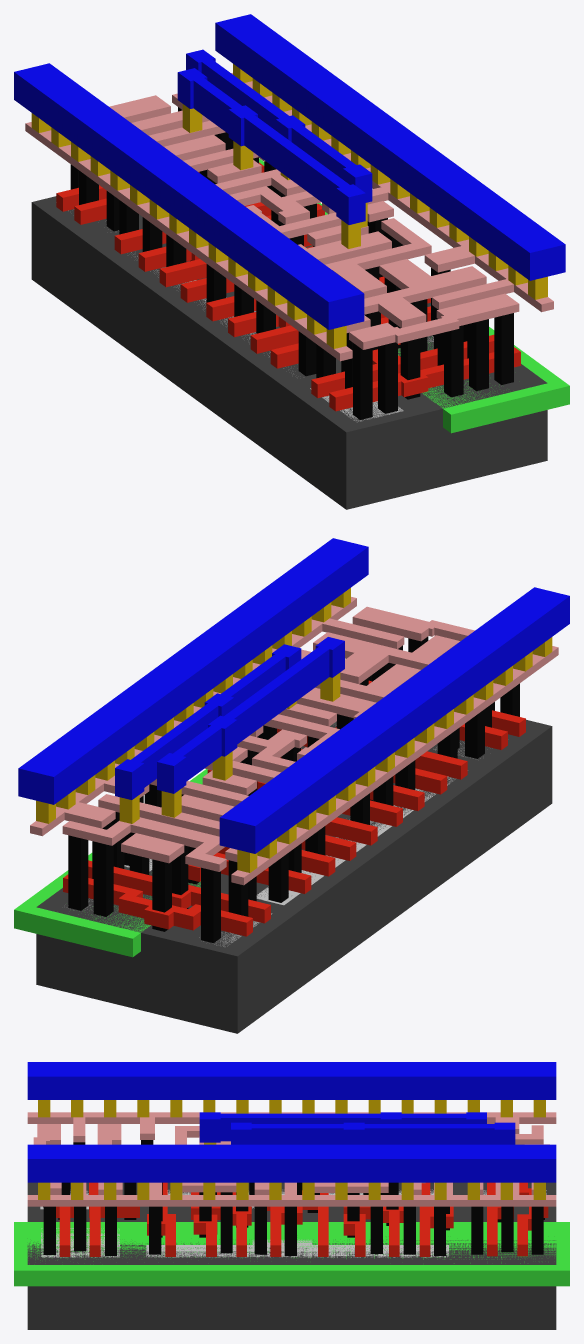
The model's file is sky130_fd_sc_hd__dfxtp_1.obj.
The picture shows the model from 3 angles, top to bottom: view 1: azimuth 30°, elevation 25°; view 2: azimuth 150°, elevation 25°; view 3: azimuth 270°, elevation 25°; orthographic projection. The views are drawn at different scales.
Parts seen in each view (by area): view 1: metal1, subs, li, licon, poly, mcon, nwell; view 2: metal1, subs, li, licon, poly, mcon, nwell, diff; view 3: metal1, subs, nwell, li, licon, poly, mcon, tap.
Boxes of the visible parts, x1,y1,x2,y2 form: metal1: [14, 14, 565, 329]; subs: [31, 196, 547, 509]; li: [25, 73, 553, 361]; licon: [70, 107, 513, 419]; poly: [56, 162, 520, 411]; mcon: [31, 64, 547, 348]; nwell: [259, 158, 569, 433]; metal1: [18, 538, 569, 853]; subs: [36, 719, 552, 1033]; li: [30, 597, 558, 885]; licon: [68, 636, 519, 942]; poly: [63, 680, 525, 936]; mcon: [36, 588, 552, 872]; nwell: [14, 769, 207, 957]; diff: [199, 742, 480, 946]; metal1: [27, 1062, 556, 1182]; subs: [27, 1182, 556, 1329]; nwell: [14, 1222, 569, 1286]; li: [27, 1112, 556, 1206]; licon: [43, 1140, 544, 1255]; poly: [56, 1182, 548, 1256]; mcon: [38, 1100, 545, 1199]; tap: [41, 1228, 448, 1257].
Bounding box in the file's own units: 3.2 × 2.74 × 7.74.
